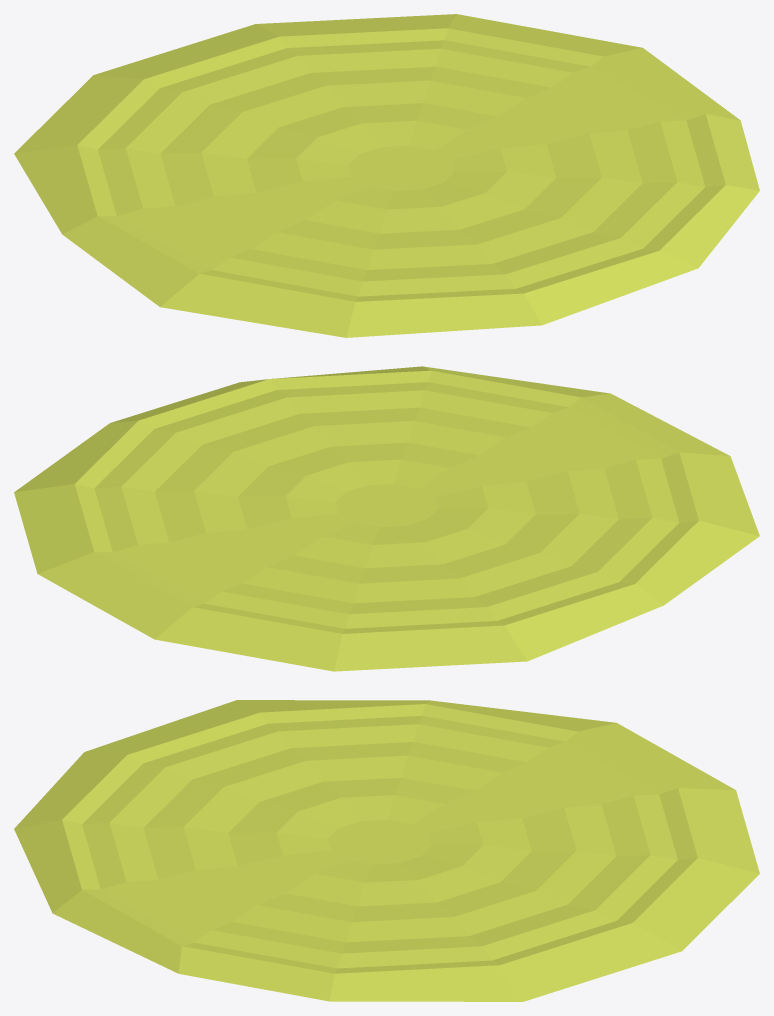
The model's file is Isl_12_Circles.fbx.
3 views of the same model, one above another, from view 1: azimuth 30°, elevation 25°; view 2: azimuth 150°, elevation 25°; view 3: azimuth 270°, elevation 25° (orthographic). The views are drawn at different scales.
Visible parts, largest first — view 1: Isl_12_Circles; view 2: Isl_12_Circles; view 3: Isl_12_Circles.
Part boxes in pixels (<box>): Isl_12_Circles: <box>14,14,759,337</box>; Isl_12_Circles: <box>14,366,759,671</box>; Isl_12_Circles: <box>14,700,759,1001</box>.
Bounding box in the file's own units: 1024 × 1073 × 20.96.
1 material, 1 textured.
